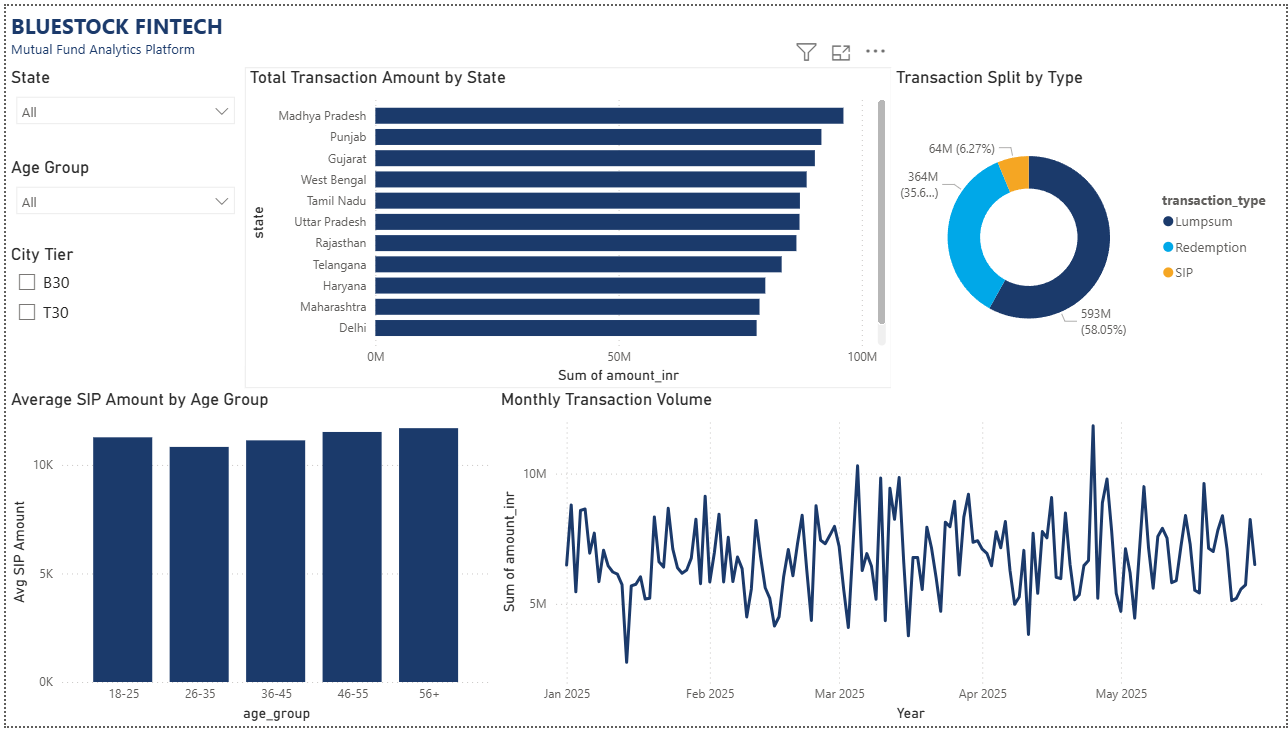

What the dashboard file says about the page in this screenshot:
{"tool":"powerbi","page":{"name":"Investor Analytics","canvas":[1280,720],"ordinal":2},"visuals":[{"type":"clusteredBarChart","title":"Total Transaction Amount by State","fields":{"Category":["08_investor_transactions_clean.state"],"Y":["Sum(08_investor_transactions_clean.amount_inr)"]},"box":[238.8,61.2,646.2,321.2],"z":0},{"type":"donutChart","title":"Transaction Split by Type","fields":{"Category":["08_investor_transactions_clean.transaction_type"],"Y":["Sum(08_investor_transactions_clean.amount_inr)"]},"box":[885,61.2,395,321.2],"z":1000},{"type":"clusteredColumnChart","title":"Average SIP Amount by Age Group","fields":{"Category":["08_investor_transactions_clean.age_group"],"Y":["08_investor_transactions_clean.Avg SIP Amount"]},"box":[0,382.5,490,337.5],"z":2000},{"type":"lineChart","title":"Monthly Transaction Volume","fields":{"Category":["08_investor_transactions_clean.transaction_date.Variation.Date Hierarchy.Year","08_investor_transactions_clean.transaction_date.Variation.Date Hierarchy.Quarter","08_investor_transactions_clean.transaction_date.Variation.Date Hierarchy.Month","08_investor_transactions_clean.transaction_date.Variation.Date Hierarchy.Day"],"Y":["Sum(08_investor_transactions_clean.amount_inr)"]},"box":[490,382.5,790,337.5],"z":3000},{"type":"slicer","title":"State","fields":{"Values":["08_investor_transactions_clean.state"]},"box":[0,61.1,238.5,90.5],"z":4000},{"type":"slicer","title":"Age Group","fields":{"Values":["08_investor_transactions_clean.age_group"]},"box":[0,151.6,238.5,85.6],"z":5000},{"type":"slicer","title":"City Tier","fields":{"Values":["08_investor_transactions_clean.city_tier"]},"box":[0,237.2,238.5,122.3],"z":6000},{"type":"textbox","box":[0,0,238.5,61.1],"z":6001}]}

Visuals, with their boxes in screenshot pixels (x1, y1, x2, y2), scaled from the page's 1280x720 canvas onto the 1288x730 screenshot:
"Total Transaction Amount by State" clusteredBarChart: bbox=[240, 62, 891, 388]
"Transaction Split by Type" donutChart: bbox=[891, 62, 1287, 388]
"Average SIP Amount by Age Group" clusteredColumnChart: bbox=[0, 388, 493, 729]
"Monthly Transaction Volume" lineChart: bbox=[493, 388, 1287, 729]
"State" slicer: bbox=[0, 62, 240, 154]
"Age Group" slicer: bbox=[0, 154, 240, 240]
"City Tier" slicer: bbox=[0, 240, 240, 364]
textbox: bbox=[0, 0, 240, 62]
